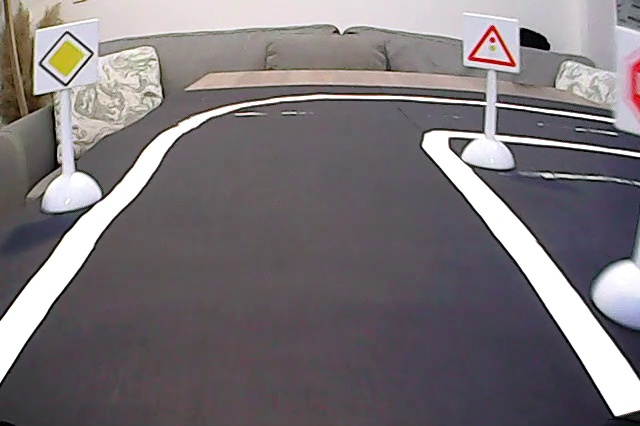red light: (465, 14, 519, 72)
